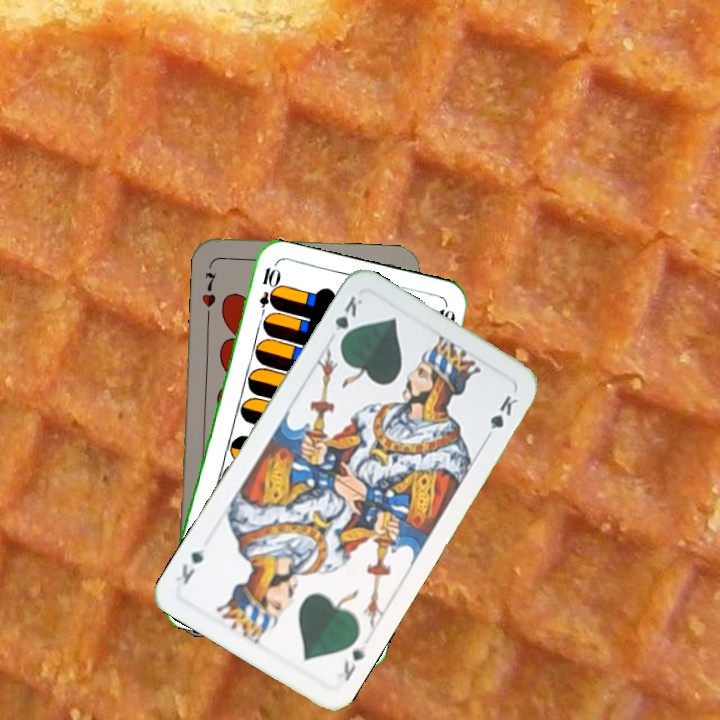E10: (255, 263, 278, 322)
GK: (330, 292, 366, 348), (333, 639, 368, 685)
H7: (197, 268, 219, 310)
